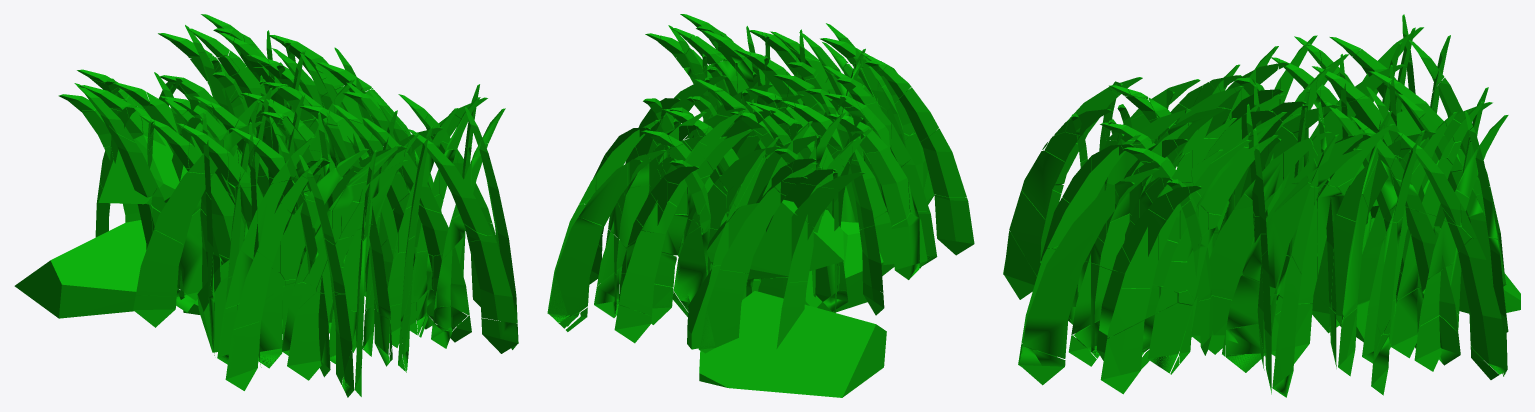
The model's file is GrassFracture.fbx.
3 views of the same model, side by side, from view 1: azimuth 30°, elevation 25°; view 2: azimuth 150°, elevation 25°; view 3: azimuth 270°, elevation 25° (orthographic). The views are drawn at different scales.
Visible parts, largest first — view 1: Plane.002_cell.069, Plane.002_cell.024, Plane.002_cell.346, Plane.002_cell.422, Plane.002_cell.322, Plane.002_cell.543, Plane.002_cell.550, Plane.002_cell.375, Plane.002_cell.460, Plane.002_cell.487, Plane.002_cell.411, Plane.002_cell.177 (+71 smaller); view 2: Plane.002_cell.069, Plane.002_cell.024, Plane.002_cell.198, Plane.002_cell.067, Plane.002_cell.269, Plane.002_cell.089, Plane.002_cell.073, Plane.002_cell.228, Plane.002_cell.375, Plane.002_cell.460, Plane.002_cell.541, Plane.002_cell.178 (+59 smaller); view 3: Plane.002_cell.347, Plane.002_cell.197, Plane.002_cell.529, Plane.002_cell.120, Plane.002_cell.150, Plane.002_cell.517, Plane.002_cell.297, Plane.002_cell.233, Plane.002_cell.051, Plane.002_cell.550, Plane.002_cell.324, Plane.002_cell.454 (+86 smaller).
Boxes of the visible parts, bbox=[...] form: Plane.002_cell.069: bbox=[14, 220, 149, 318]; Plane.002_cell.024: bbox=[98, 107, 187, 204]; Plane.002_cell.346: bbox=[470, 235, 515, 323]; Plane.002_cell.422: bbox=[136, 229, 184, 296]; Plane.002_cell.322: bbox=[287, 292, 332, 380]; Plane.002_cell.543: bbox=[154, 172, 212, 244]; Plane.002_cell.550: bbox=[412, 133, 493, 235]; Plane.002_cell.375: bbox=[225, 321, 260, 390]; Plane.002_cell.460: bbox=[233, 251, 272, 329]; Plane.002_cell.487: bbox=[177, 208, 202, 300]; Plane.002_cell.411: bbox=[418, 204, 464, 258]; Plane.002_cell.177: bbox=[237, 287, 282, 368]; Plane.002_cell.069: bbox=[699, 291, 886, 397]; Plane.002_cell.024: bbox=[706, 200, 844, 279]; Plane.002_cell.198: bbox=[548, 217, 603, 322]; Plane.002_cell.067: bbox=[699, 269, 748, 353]; Plane.002_cell.269: bbox=[619, 230, 665, 315]; Plane.002_cell.089: bbox=[720, 187, 780, 273]; Plane.002_cell.073: bbox=[805, 220, 883, 312]; Plane.002_cell.228: bbox=[673, 226, 717, 311]; Plane.002_cell.375: bbox=[934, 194, 974, 255]; Plane.002_cell.460: bbox=[920, 128, 966, 197]; Plane.002_cell.541: bbox=[866, 148, 909, 225]; Plane.002_cell.178: bbox=[891, 212, 919, 279]; Plane.002_cell.347: bbox=[1022, 168, 1158, 358]; Plane.002_cell.197: bbox=[1458, 238, 1507, 374]; Plane.002_cell.529: bbox=[1242, 182, 1314, 288]; Plane.002_cell.120: bbox=[1261, 250, 1301, 397]; Plane.002_cell.150: bbox=[1209, 206, 1254, 299]; Plane.002_cell.517: bbox=[1405, 207, 1471, 290]; Plane.002_cell.297: bbox=[1100, 320, 1144, 394]; Plane.002_cell.233: bbox=[1314, 214, 1355, 324]; Plane.002_cell.051: bbox=[1148, 303, 1192, 373]; Plane.002_cell.550: bbox=[1047, 140, 1135, 248]; Plane.002_cell.324: bbox=[1009, 190, 1045, 275]; Plane.002_cell.454: bbox=[1021, 150, 1064, 219].
Size of the model in its own units: 175 by 214 by 105.
